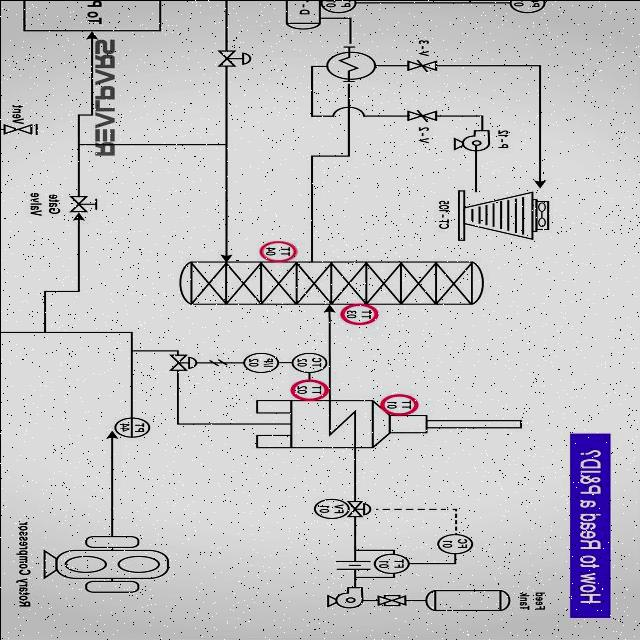Butterfly Valve: (402, 58, 444, 78), (399, 108, 444, 125)
Centrifugal Pump: (324, 584, 367, 616), (448, 128, 494, 156)
Flanged: (0, 122, 44, 137)
Hand Operated Gate Valve: (62, 194, 106, 214)
Orifice: (334, 560, 372, 574)
Plug Valve: (370, 588, 412, 612)
Pneumatic-Diaphragm Gate Valve: (211, 48, 267, 72), (163, 354, 202, 376), (344, 496, 374, 521)
